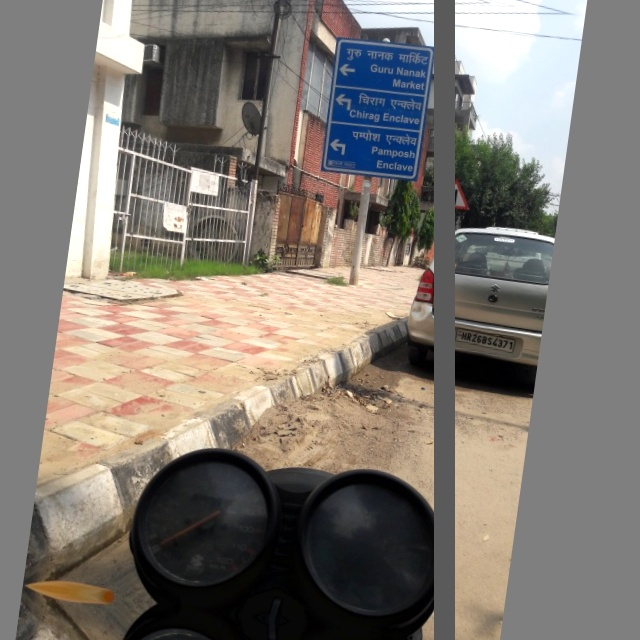Side_Road_Left: (432, 169, 476, 215)
